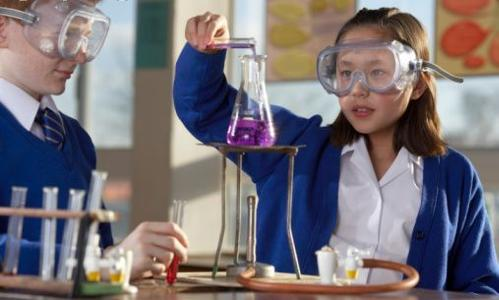person: (174, 10, 499, 296)
